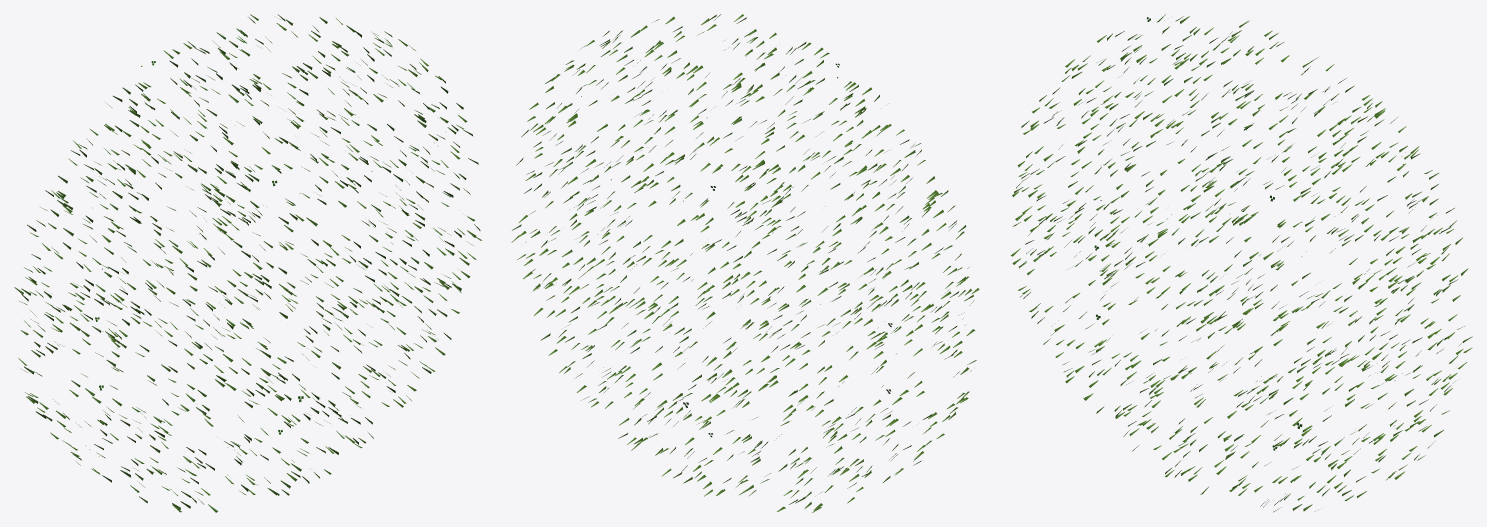
The model's file is Grass_Tile_SportsTurf.glb.
3 views of the same model, side by side, from view 1: azimuth 30°, elevation 25°; view 2: azimuth 150°, elevation 25°; view 3: azimuth 330°, elevation 25° (orthographic).
Visible parts, largest first — view 1: Grass_Tile_SportsTurf; view 2: Grass_Tile_SportsTurf; view 3: Grass_Tile_SportsTurf.
Boxes of the visible parts, x1=… form: Grass_Tile_SportsTurf: x1=14, y1=14, x2=481, y2=512; Grass_Tile_SportsTurf: x1=511, y1=14, x2=979, y2=512; Grass_Tile_SportsTurf: x1=1011, y1=14, x2=1472, y2=512.
Size of the model in its own units: 1.98 by 1.98 by 0.0853.
